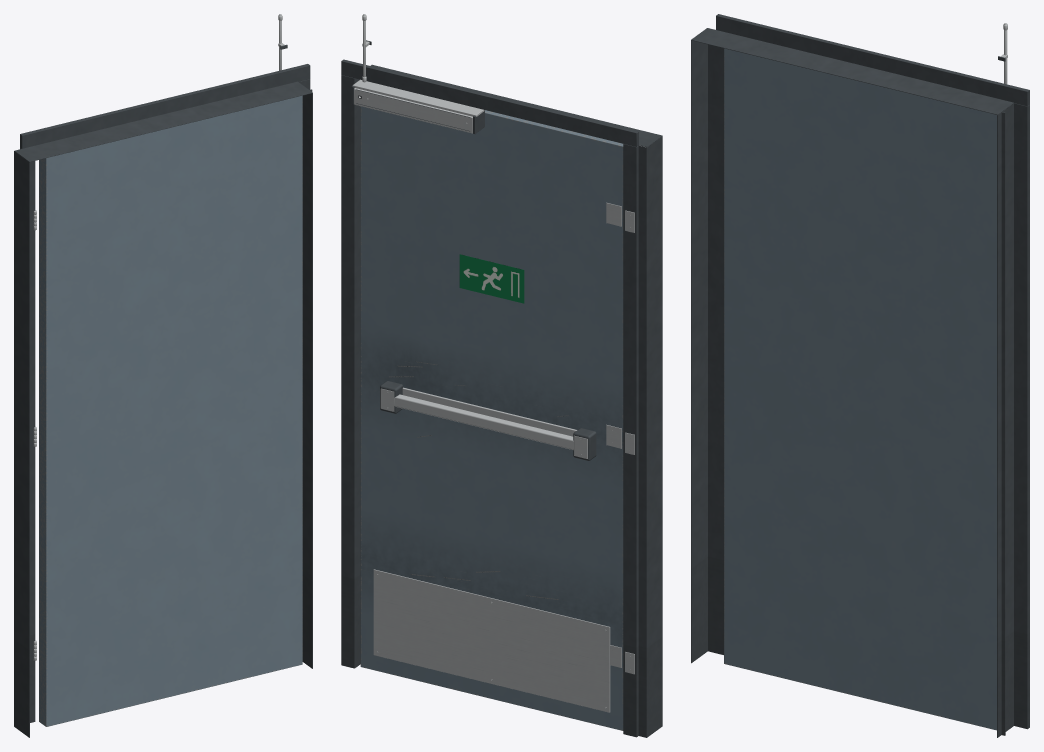
Rendered from exit_door_maglock.glb.
The picture shows the model from 3 angles, left to right: view 1: azimuth 30°, elevation 25°; view 2: azimuth 150°, elevation 25°; view 3: azimuth 330°, elevation 25°; orthographic projection. The views are drawn at different scales.
Parts seen in each view (by area): view 1: leaf, frame; view 2: leaf, frame, maglock; view 3: leaf, frame.
Boxes of the visible parts, box(x1,y1,x2,y2) form: leaf: box(33, 95, 302, 726); frame: box(14, 64, 312, 737); leaf: box(360, 106, 623, 730); frame: box(341, 59, 662, 737); maglock: box(351, 14, 484, 133); leaf: box(724, 48, 996, 730); frame: box(691, 14, 1029, 737).
Size of the model in its own units: 1.13 by 2.35 by 0.1722.
5 materials, 4 textured.
